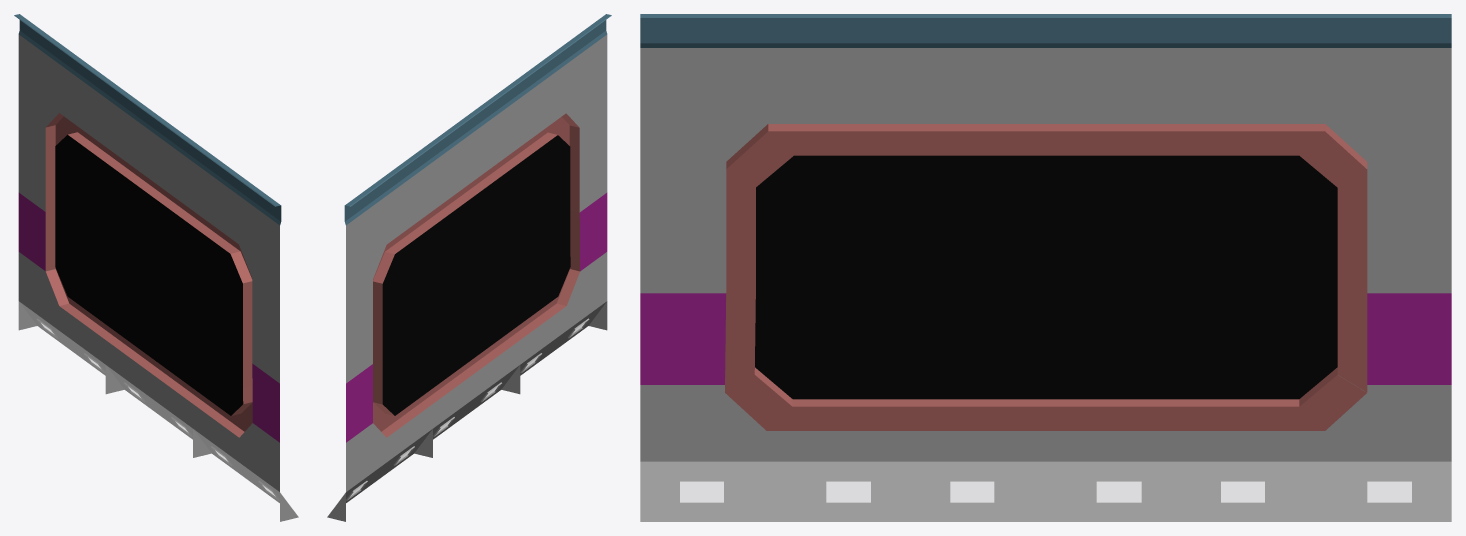
File: SM_WideWindow.fbx
3 views of the same model, side by side, from view 1: azimuth 30°, elevation 25°; view 2: azimuth 150°, elevation 25°; view 3: azimuth 270°, elevation 25° (orthographic). The views are drawn at different scales.
Parts seen in each view (by area): view 1: SM_WideWindow; view 2: SM_WideWindow; view 3: SM_WideWindow.
Boxes of the visible parts, x1,y1,x2,y2 form: SM_WideWindow: [14, 14, 298, 521]; SM_WideWindow: [327, 14, 611, 521]; SM_WideWindow: [640, 14, 1451, 521].
Size of what is drawn, in the model's own units: 30.95 by 401 by 600.
